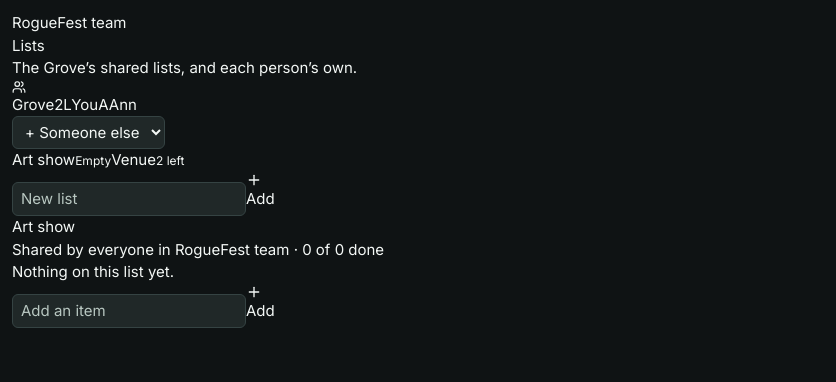
Scenario: starts a list for someone, and hands one to the Grove
The width and height of the screenshot is (836, 382).
Step 1. Select "Bo" in the dropdown named "Open someone else’s lists" → point(88, 132), box [12, 116, 165, 149]
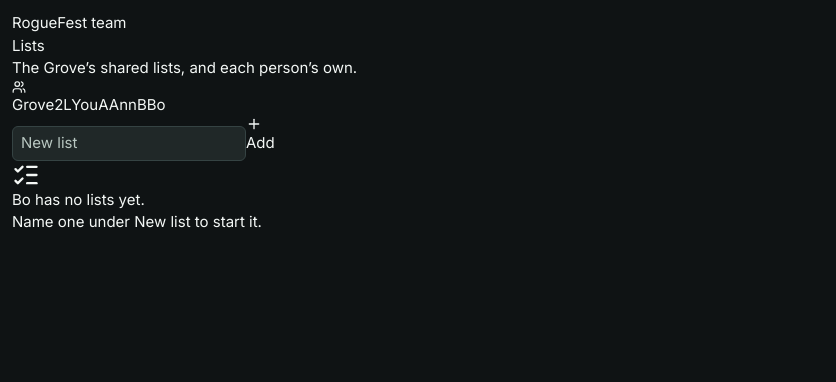
Result: the text "Bo has no lists yet." is shown at [12, 190, 145, 208]
Step 2. Type "Posters" into the field named "New list name" → point(129, 143), box [12, 126, 246, 160]
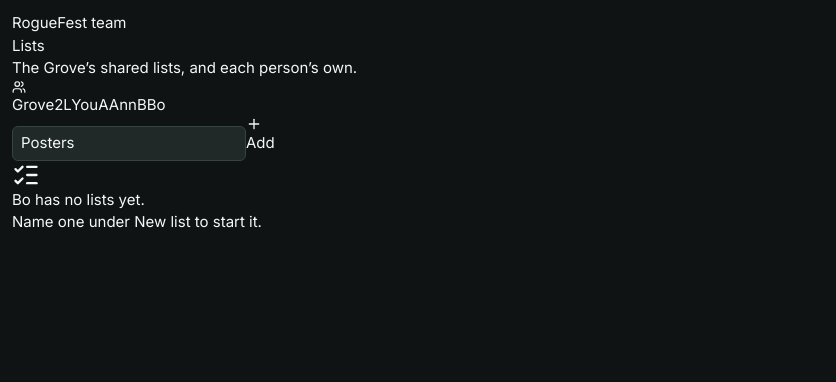
Step 3. Click the button "Add" → point(260, 135), box [246, 116, 275, 154]
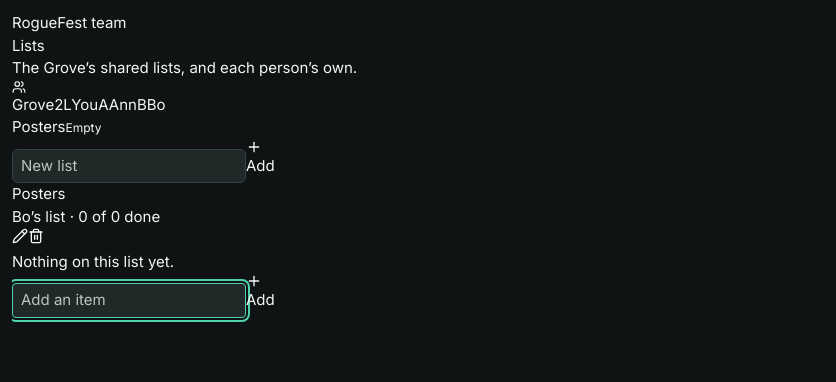
// Lorelei started it, so she can hand it to the Grove, and it goes with her there.
Step 4. Click the button named "Edit list" → point(20, 236), box [12, 228, 28, 244]
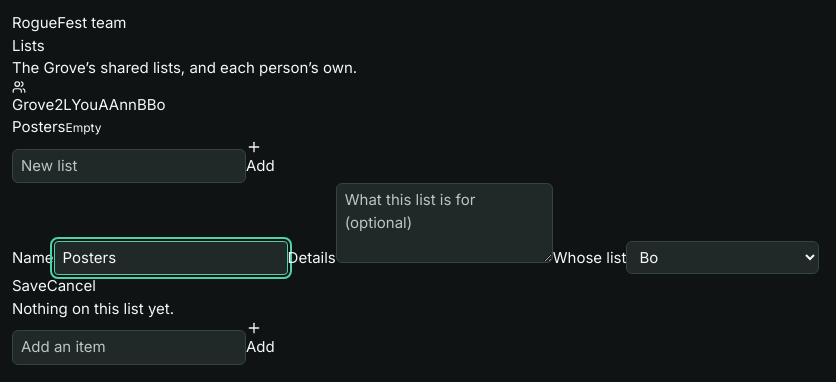
Step 5. Select "The Grove (everyone)" in the dropdown labelled "Whose list" → point(723, 257), box [626, 240, 819, 274]
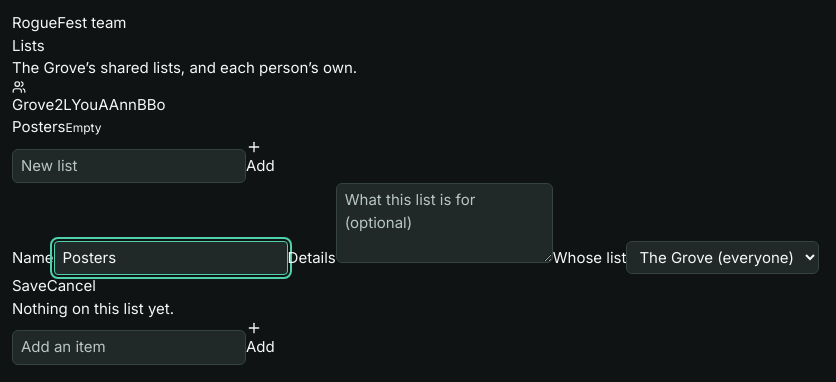
Step 6. Click the button "Save" → point(29, 286), box [12, 275, 47, 298]
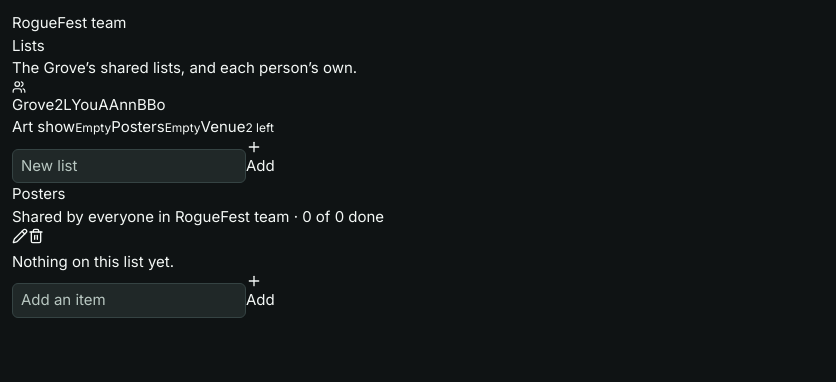
Result: the element "Posters" shows "Shared by everyone in RogueFest team" at [12, 206, 289, 226]
